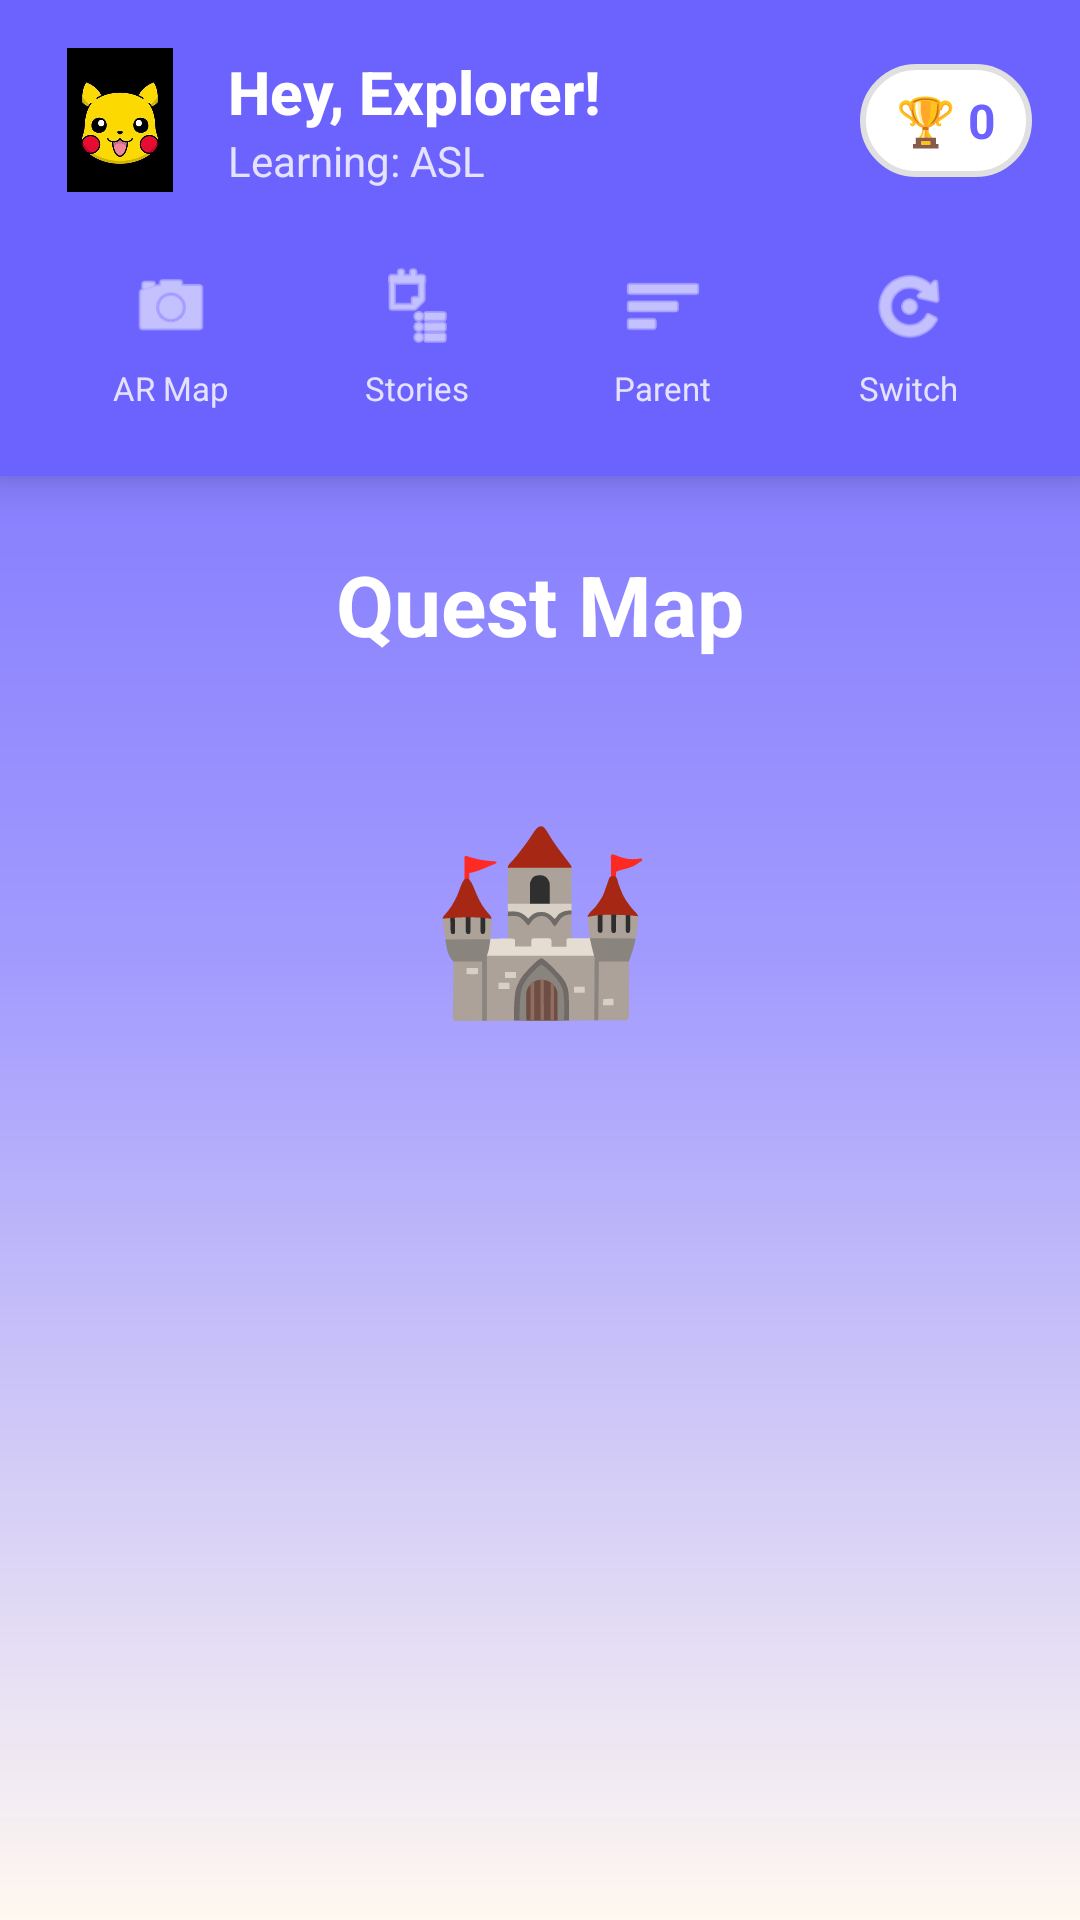

Named icons in this screenshot (1080 × 1920) and their bounding boxes, {"left": x1, "top": y1, "right": x2, "bottom": y2}:
agenda: {"left": 388, "top": 268, "right": 447, "bottom": 343}
camera: {"left": 139, "top": 279, "right": 203, "bottom": 330}
rotate: {"left": 878, "top": 275, "right": 940, "bottom": 338}
sort by size: {"left": 627, "top": 283, "right": 699, "bottom": 330}
